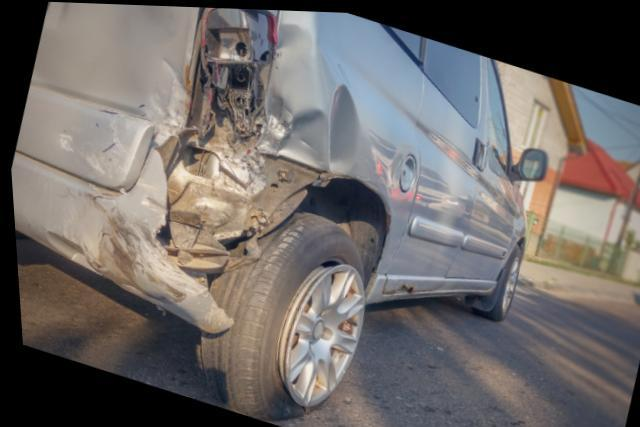dent: (68, 3, 192, 133), (266, 21, 361, 178)
no part: (155, 6, 327, 305)
scratch: (91, 195, 190, 308)
tire flat: (194, 207, 363, 420)
